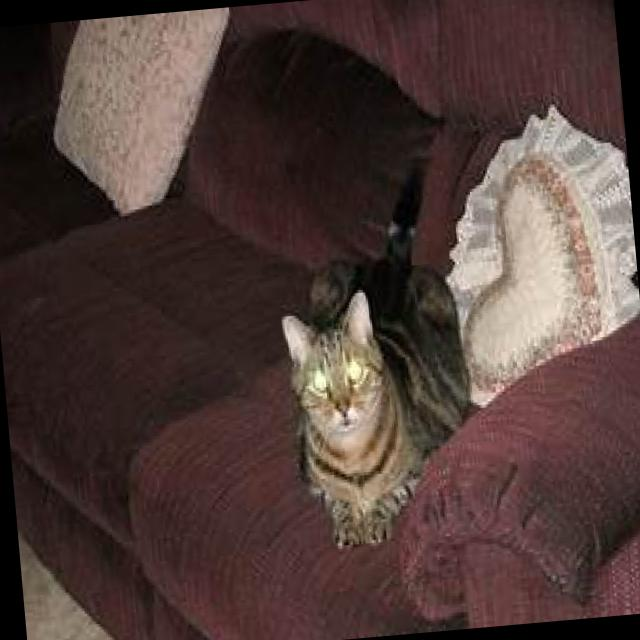animal: (264, 166, 479, 554)
